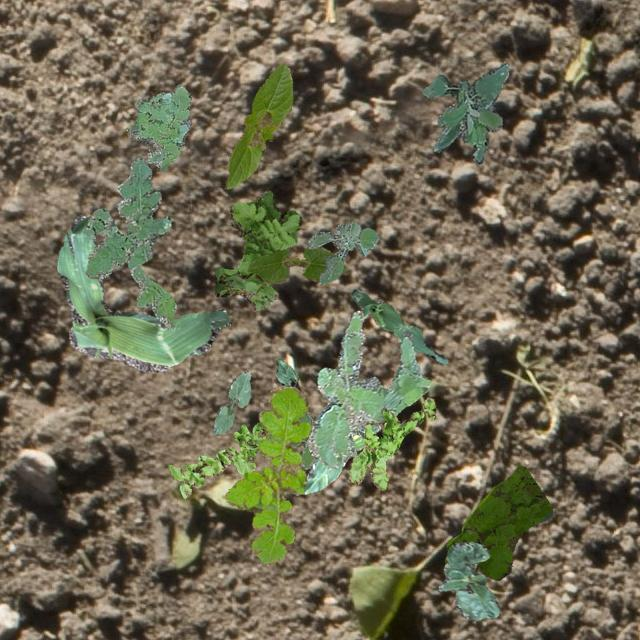crop: (55, 212, 228, 370), (226, 62, 292, 188), (351, 288, 446, 362), (438, 542, 498, 620), (246, 245, 346, 282), (302, 432, 362, 492), (212, 370, 250, 434), (276, 358, 298, 388)
weed: (308, 310, 430, 470), (82, 156, 175, 330), (224, 384, 310, 564), (446, 464, 552, 580), (213, 188, 300, 310), (420, 61, 508, 162), (348, 396, 434, 489), (168, 420, 268, 498), (128, 84, 190, 170), (306, 220, 376, 284), (290, 411, 314, 468), (344, 424, 380, 456)
